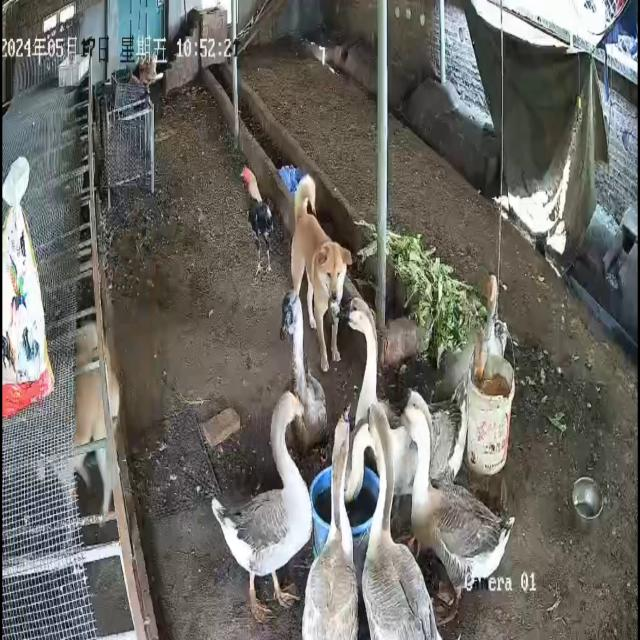dog: (291, 174, 353, 374), (74, 326, 121, 538)
